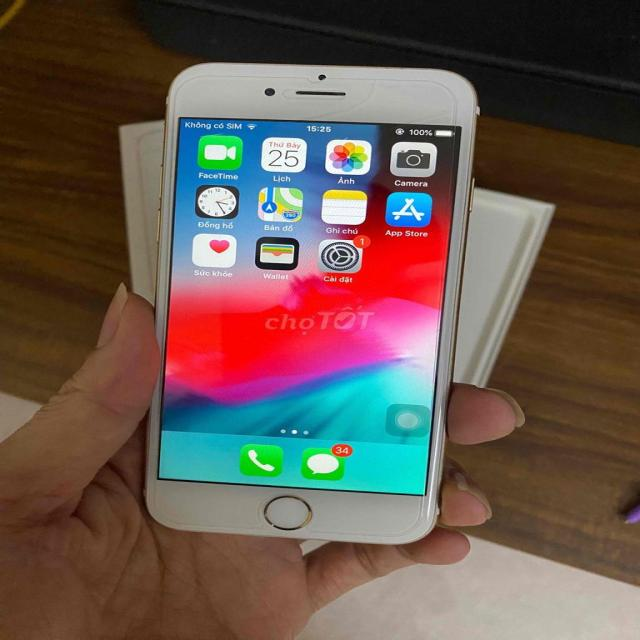gen_6: (145, 52, 488, 568)
